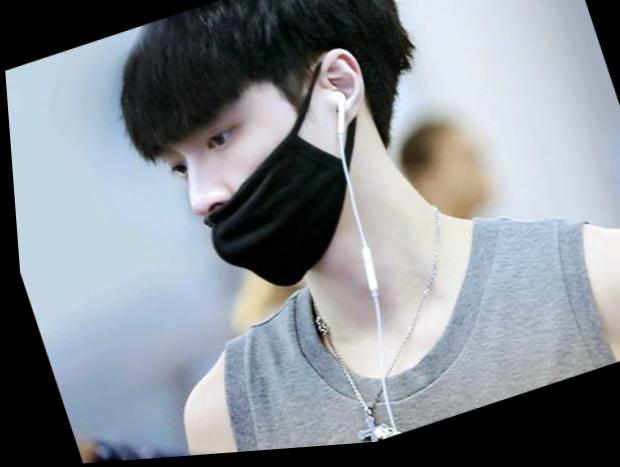WRONG: (143, 60, 371, 320)
